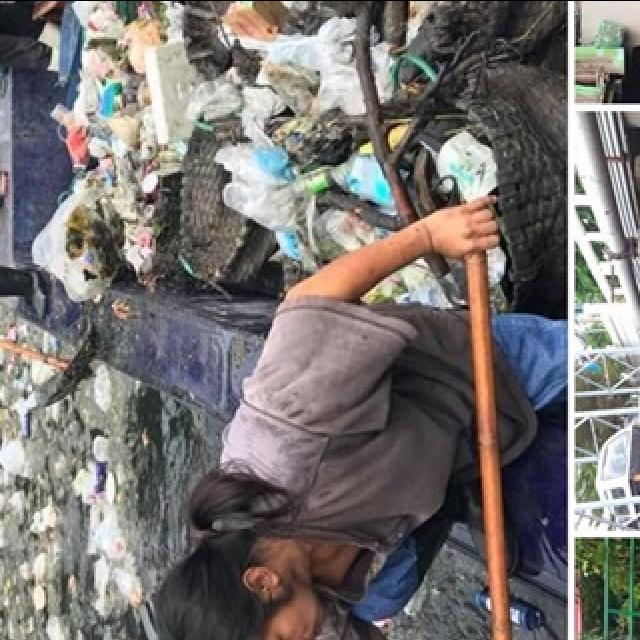-: (0, 450, 120, 640), (0, 400, 52, 562), (0, 368, 40, 478)
